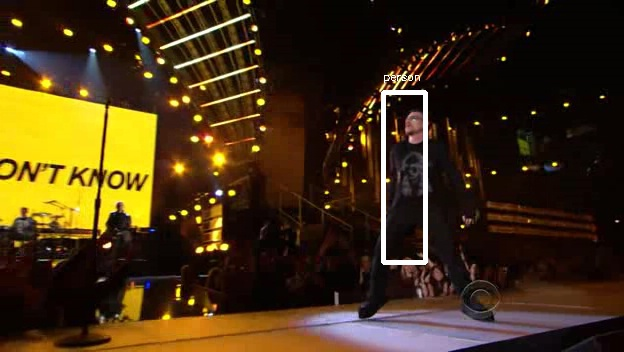person: (383, 111, 452, 233), (380, 111, 449, 233), (386, 111, 455, 233), (383, 108, 452, 230), (383, 114, 452, 236)
target_negative: (46, 224, 594, 301), (376, 114, 605, 247), (65, 14, 183, 245), (495, 121, 593, 258), (88, 28, 143, 181), (591, 174, 592, 212)
